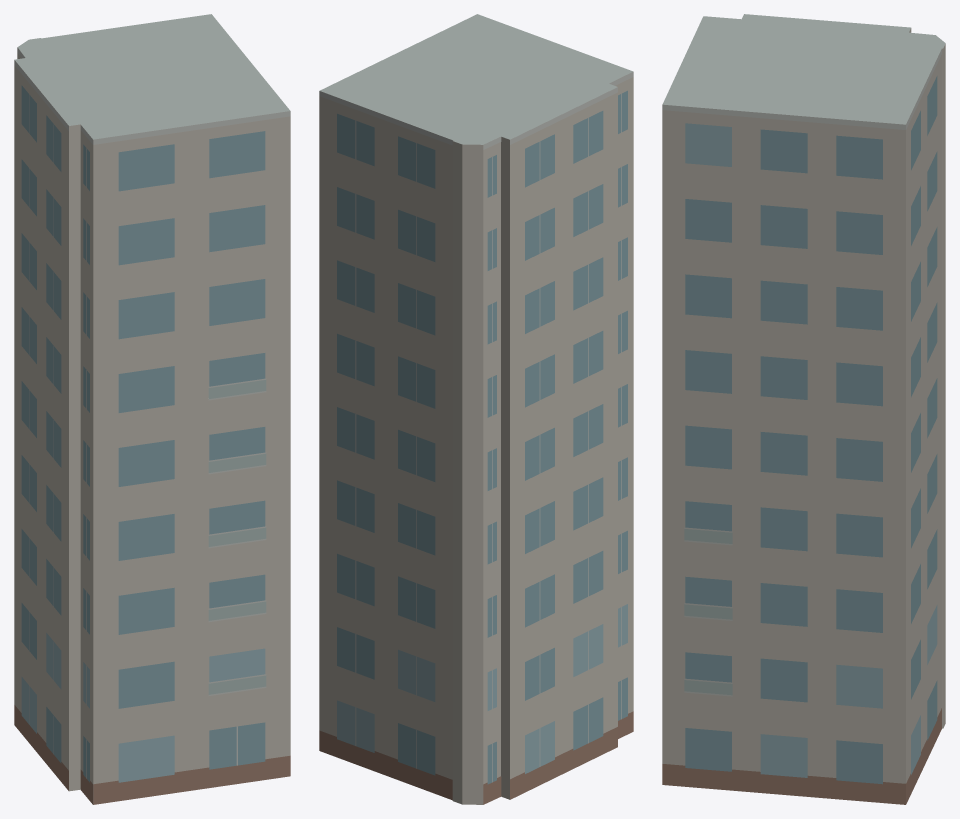
The model's file is survey-upis-32677042.glb.
3 renders of one model, left to right at view 1: azimuth 30°, elevation 25°; view 2: azimuth 150°, elevation 25°; view 3: azimuth 270°, elevation 25°, orthographic. The views are drawn at different scales.
Visible parts, largest first — view 1: survey-upis-32677042.tmp; view 2: survey-upis-32677042.tmp; view 3: survey-upis-32677042.tmp.
Boxes of the visible parts, left/top/right/bottom form: survey-upis-32677042.tmp: left=14, top=14, right=290, bottom=804; survey-upis-32677042.tmp: left=319, top=14, right=633, bottom=804; survey-upis-32677042.tmp: left=662, top=14, right=945, bottom=804.
Size of the model in its own units: 10.58 by 30.3 by 11.44.
